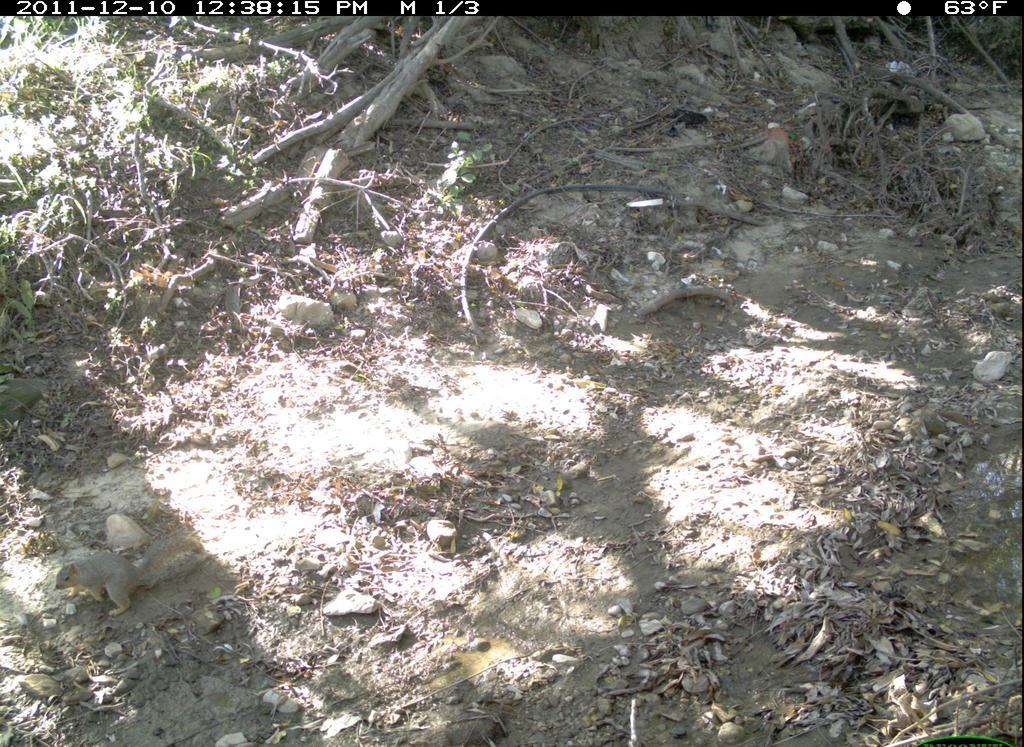squirrel: (43, 532, 219, 625)
